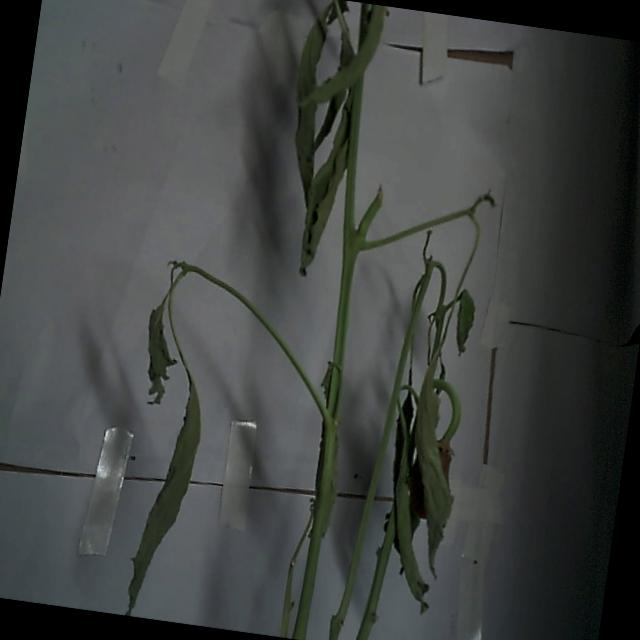Leaf: (123, 362, 210, 622), (387, 344, 474, 586), (276, 0, 343, 225), (299, 132, 352, 274), (137, 286, 187, 404)
